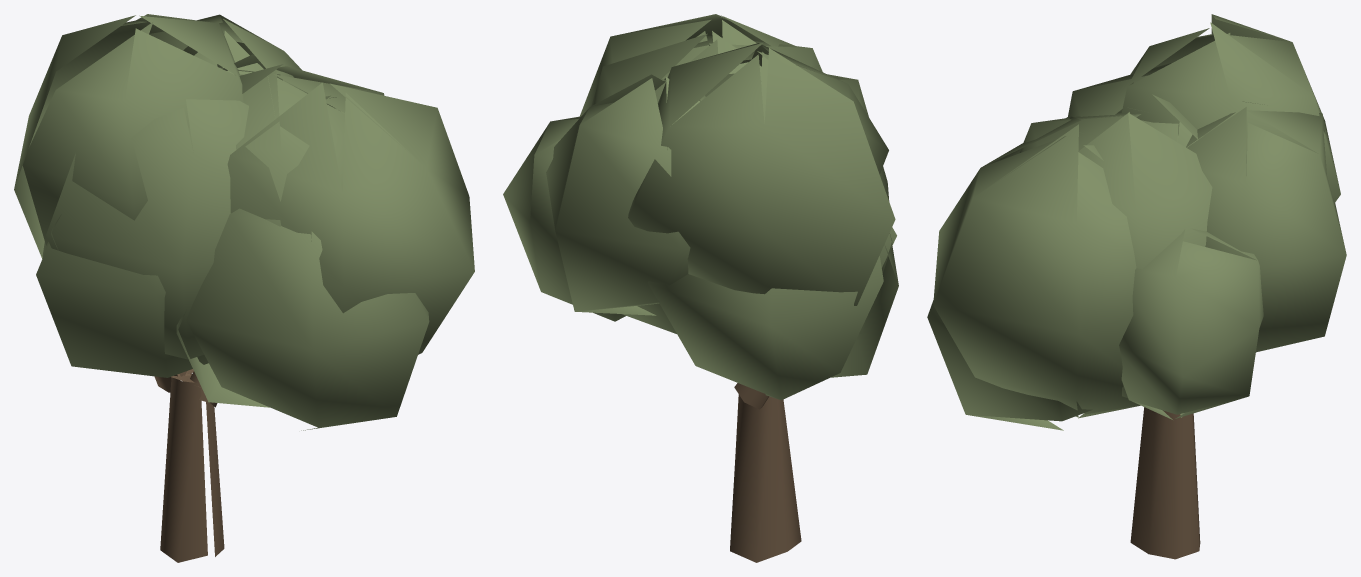
File: tree_olive.glb
3 renders of one model, left to right at view 1: azimuth 30°, elevation 25°; view 2: azimuth 150°, elevation 25°; view 3: azimuth 270°, elevation 25°, orthographic. The views are drawn at different scales.
Parts seen in each view (by area): view 1: tree; view 2: tree; view 3: tree.
Part boxes in pixels (x1=…): tree: x1=14, y1=14, x2=474, y2=562; tree: x1=503, y1=14, x2=898, y2=562; tree: x1=927, y1=14, x2=1346, y2=559.
Bounding box in the file's own units: 4.02 × 4.97 × 3.67.
